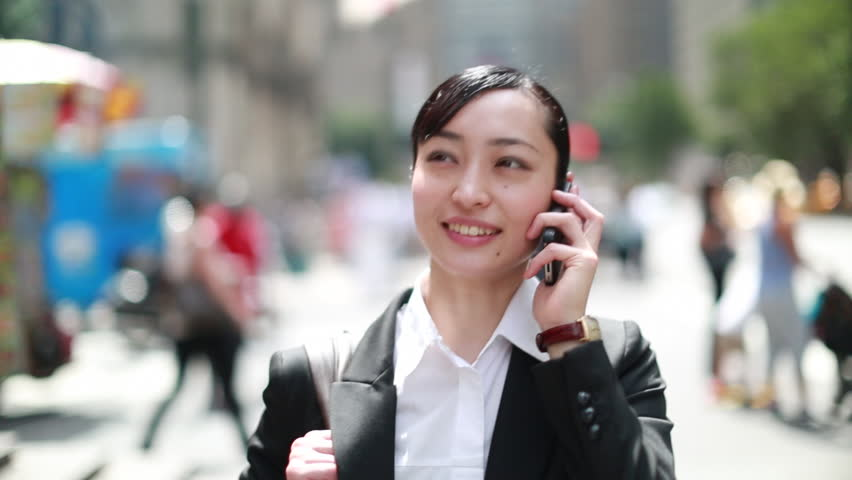phone: (522, 169, 605, 290)
talk: (405, 127, 620, 325)
